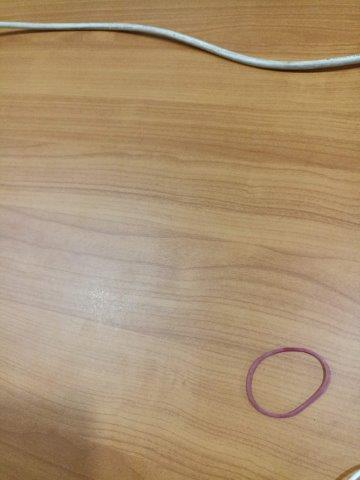karet: (245, 347, 331, 419)
